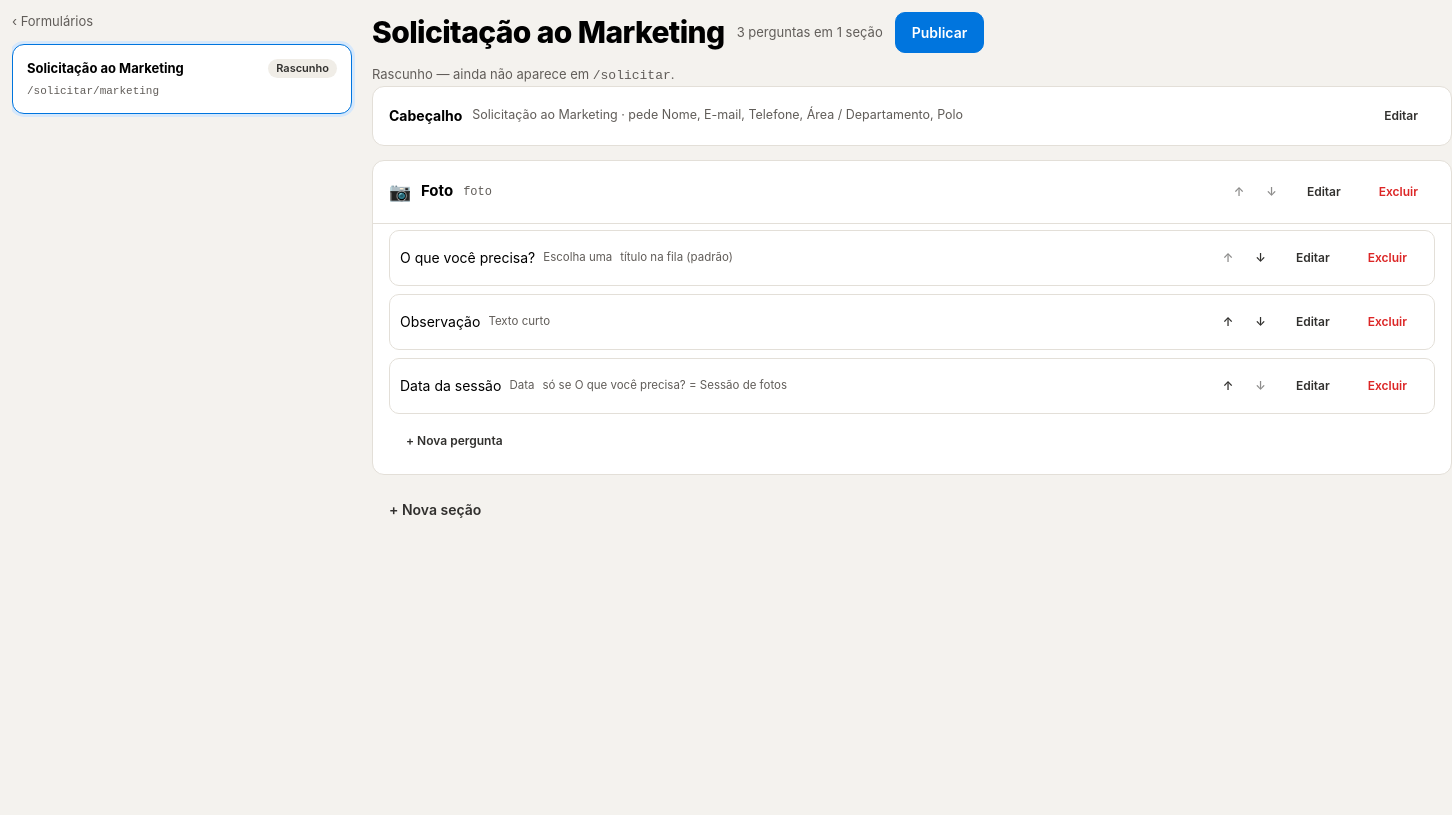
Test: as guardas da condicional › a primeira pergunta não ganha select nenhum, e explica por quê
Click the button "Editar" in the row of "título na fila (padrão)" at (1313, 258), box [1279,238,1347,276]
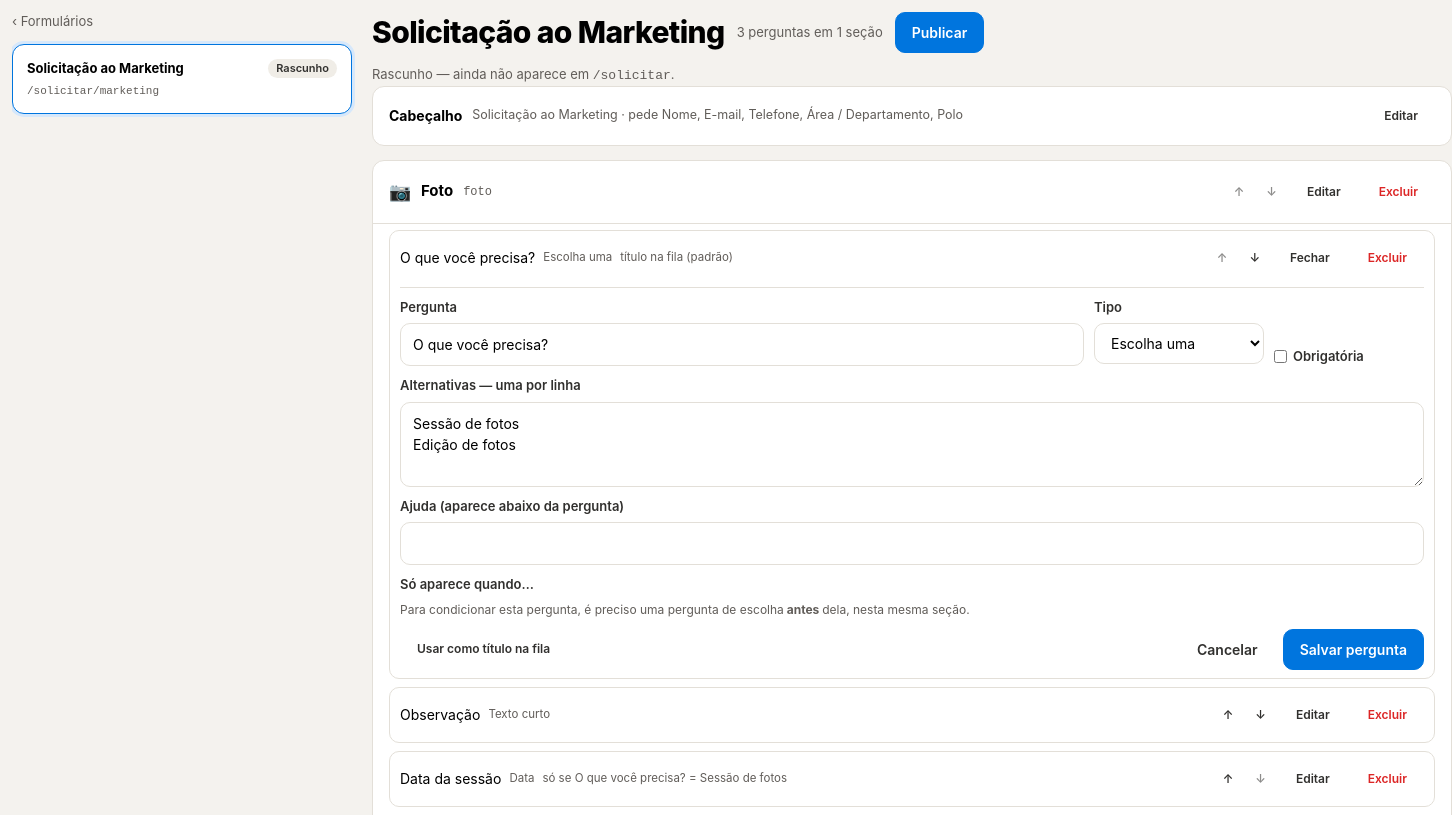
Now the text "pergunta de escolha" is shown, box [400,602,784,616]
